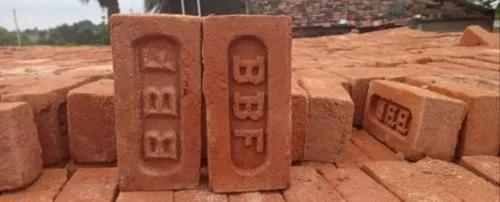brick: (111, 16, 202, 193), (204, 18, 293, 194), (412, 97, 465, 161), (66, 95, 113, 166), (305, 98, 353, 164), (463, 96, 500, 157)
